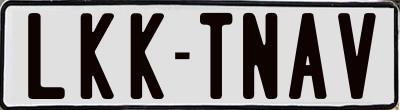A: (289, 10, 333, 100)
K: (79, 11, 116, 102), (130, 10, 168, 96)
L: (25, 12, 67, 100)
N: (241, 11, 276, 98)
T: (197, 10, 229, 98)
V: (337, 11, 380, 101)
